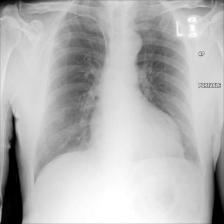normal: (35, 0, 202, 181)
